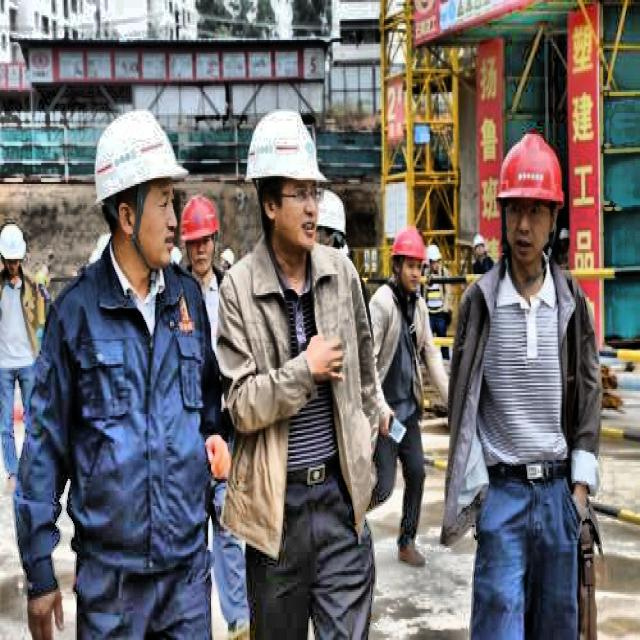helmet: (89, 107, 184, 280), (245, 103, 325, 255), (495, 130, 567, 274), (176, 188, 226, 278), (391, 212, 432, 304), (1, 217, 32, 293), (425, 238, 443, 278), (471, 232, 486, 266)
